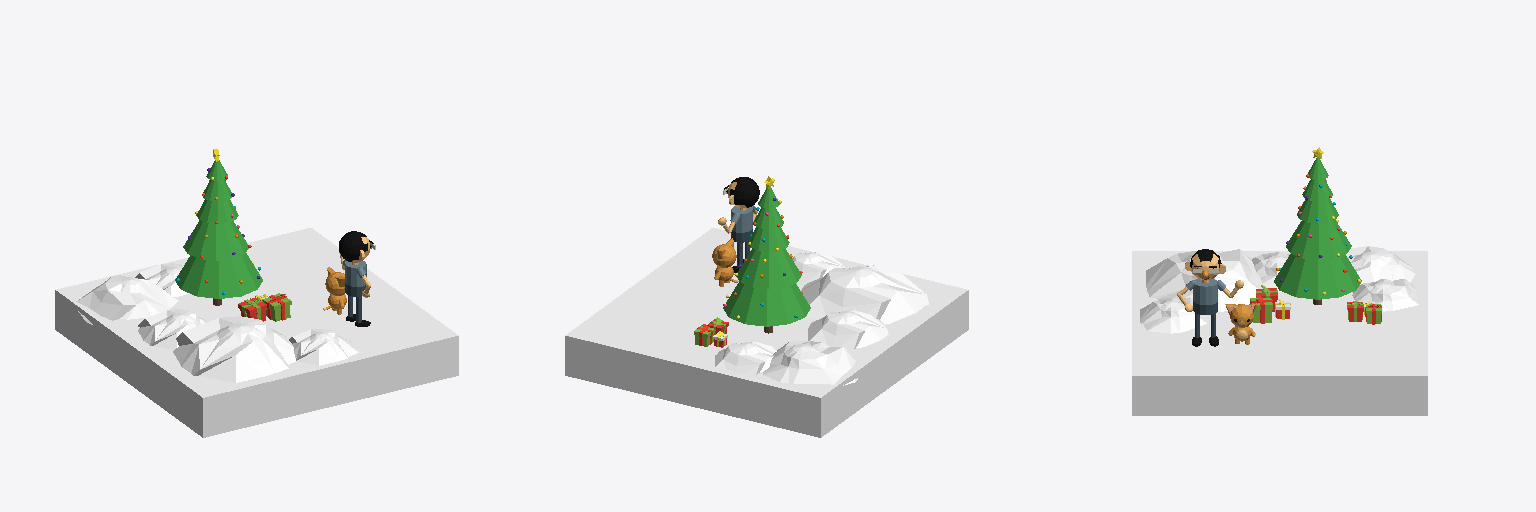
The model's file is model-triangulated.obj.
3 views of the same model, side by side, from view 1: azimuth 30°, elevation 25°; view 2: azimuth 150°, elevation 25°; view 3: azimuth 270°, elevation 25° (orthographic).
Visible parts, largest first — view 1: group[number redacted], group[number redacted]; view 2: group[number redacted], group[number redacted]; view 3: group[number redacted], group[number redacted].
Boxes of the visible parts, <box> form: group[number redacted]: <box>55,149,458,437</box>; group[number redacted]: <box>339,231,375,326</box>; group[number redacted]: <box>565,176,968,437</box>; group[number redacted]: <box>718,177,759,272</box>; group[number redacted]: <box>1132,147,1427,415</box>; group[number redacted]: <box>1177,249,1243,346</box>.
Bounding box in the file's own units: 3.21 × 2.34 × 3.18.